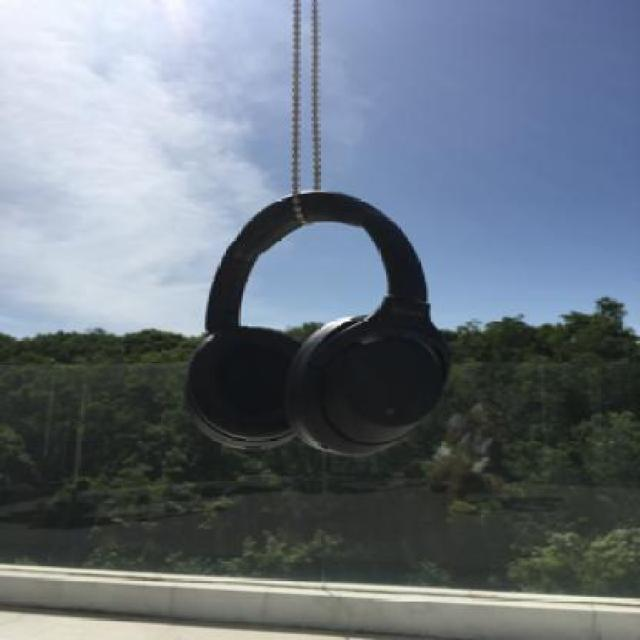earphone: (185, 163, 485, 522)
